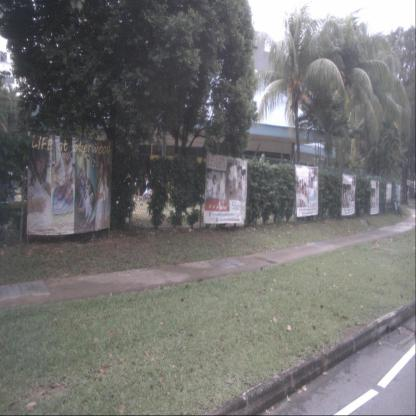vehicle-bicycle: (391, 196, 403, 218)
